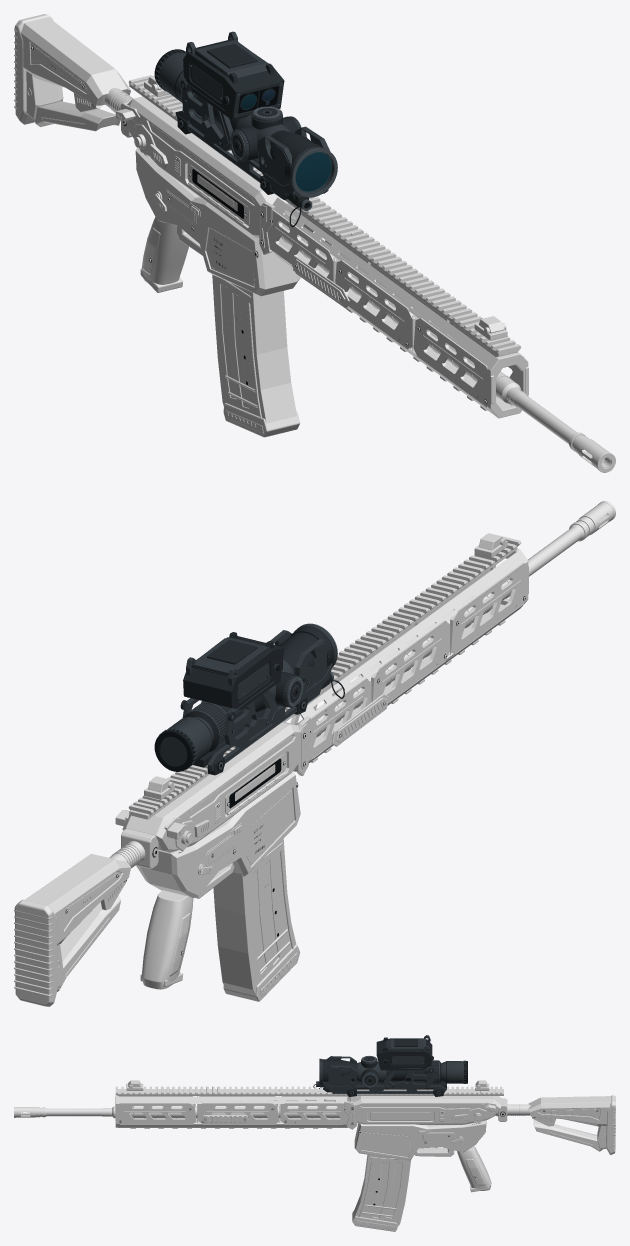
3 views of the same model, one above another, from view 1: azimuth 30°, elevation 25°; view 2: azimuth 150°, elevation 25°; view 3: azimuth 270°, elevation 25° (orthographic). The views are drawn at different scales.
Parts seen in each view (by area): view 1: M7_Mesh; view 2: M7_Mesh; view 3: M7_Mesh.
Part boxes in pixels (x1,y1,x2,y2): M7_Mesh: [14, 14, 615, 472]; M7_Mesh: [14, 501, 615, 1006]; M7_Mesh: [14, 1035, 615, 1231].
Size of the model in its own units: 0.0983 by 0.5309 by 1.55.
